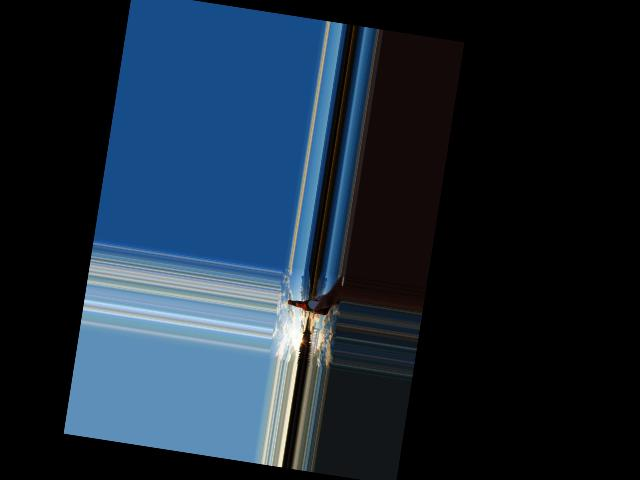beer: (286, 296, 327, 316)
